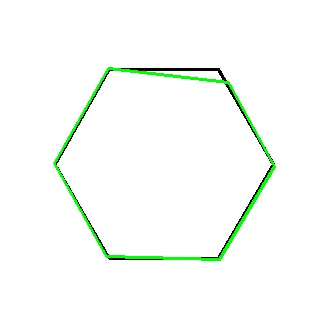line_segment: (54, 67, 275, 261)
